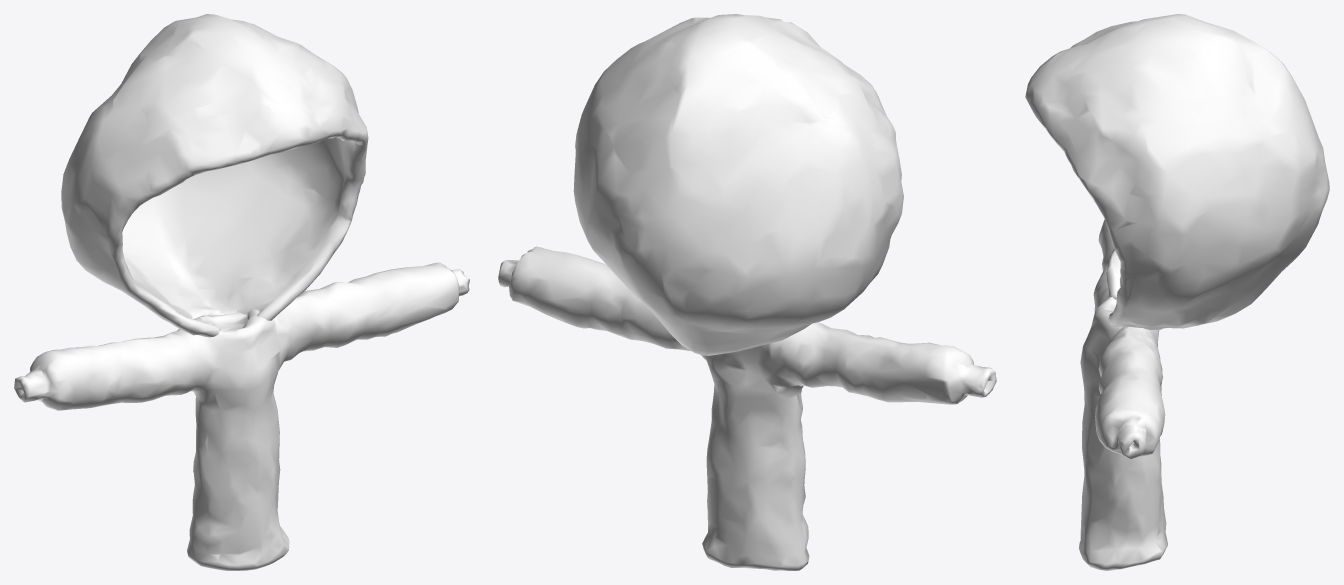
Rendered from hoodie white.glb.
The picture shows the model from 3 angles, left to right: view 1: azimuth 30°, elevation 25°; view 2: azimuth 150°, elevation 25°; view 3: azimuth 270°, elevation 25°; orthographic projection. The views are drawn at different scales.
Visible parts, largest first — view 1: shirt_hoodie_up_white.001; view 2: shirt_hoodie_up_white.001; view 3: shirt_hoodie_up_white.001.
Boxes of the visible parts, box(x1,y1,x2,y2) form: shirt_hoodie_up_white.001: box(14, 14, 469, 570); shirt_hoodie_up_white.001: box(498, 14, 996, 570); shirt_hoodie_up_white.001: box(1025, 14, 1329, 570).
Bounding box in the file's own units: 0.7063 × 0.7661 × 0.3929.
Materials: 2 (2 with a texture image).
